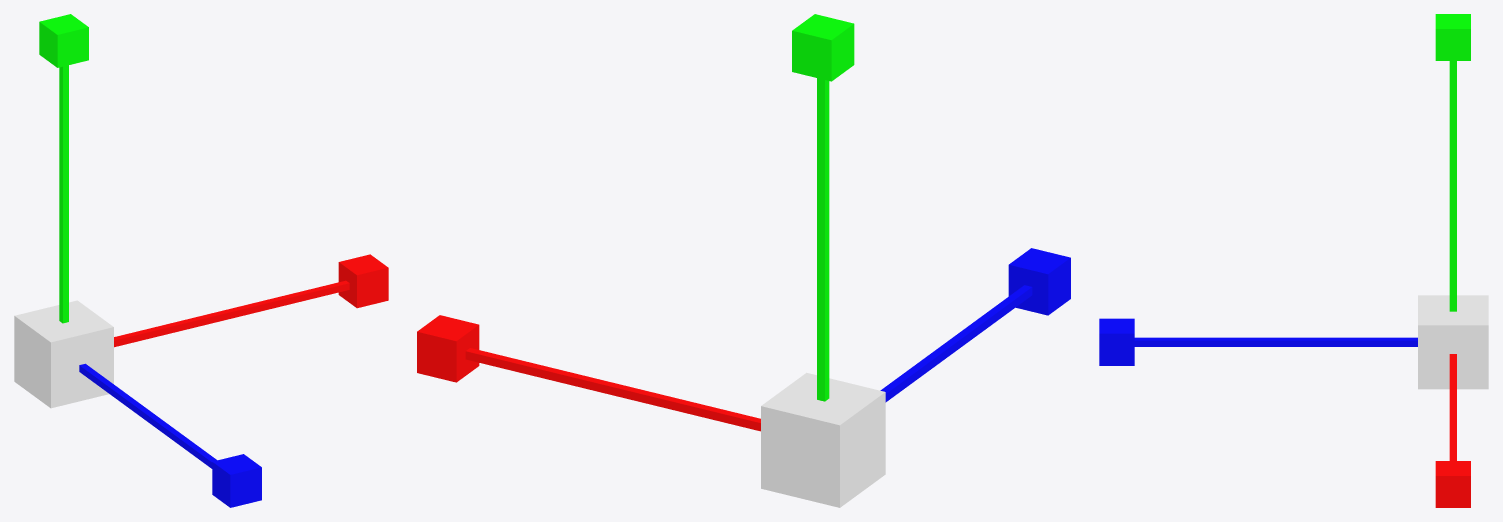
Rendered from scale.glb.
The picture shows the model from 3 angles, left to right: view 1: azimuth 30°, elevation 25°; view 2: azimuth 150°, elevation 25°; view 3: azimuth 270°, elevation 25°; orthographic projection. The views are drawn at different scales.
Visible parts, largest first — view 1: Cube.003, Cube.001, Cube, Cube.002; view 2: Cube.003, Cube.001, Cube, Cube.002; view 3: Cube.003, Cube.002, Cube.001, Cube.
Part boxes in pixels (x1,y1,x2,y2): Cube.003: (14, 300, 113, 408); Cube.001: (39, 14, 88, 323); Cube: (114, 254, 388, 347); Cube.002: (79, 363, 261, 507); Cube.003: (761, 372, 885, 507); Cube.001: (792, 14, 854, 401); Cube: (417, 315, 760, 431); Cube.002: (880, 248, 1070, 402); Cube.003: (1418, 295, 1488, 389); Cube.002: (1099, 318, 1417, 365); Cube.001: (1435, 14, 1470, 311); Cube: (1435, 354, 1470, 507).
Size of the model in its own units: 1.1 by 1.1 by 1.1.
